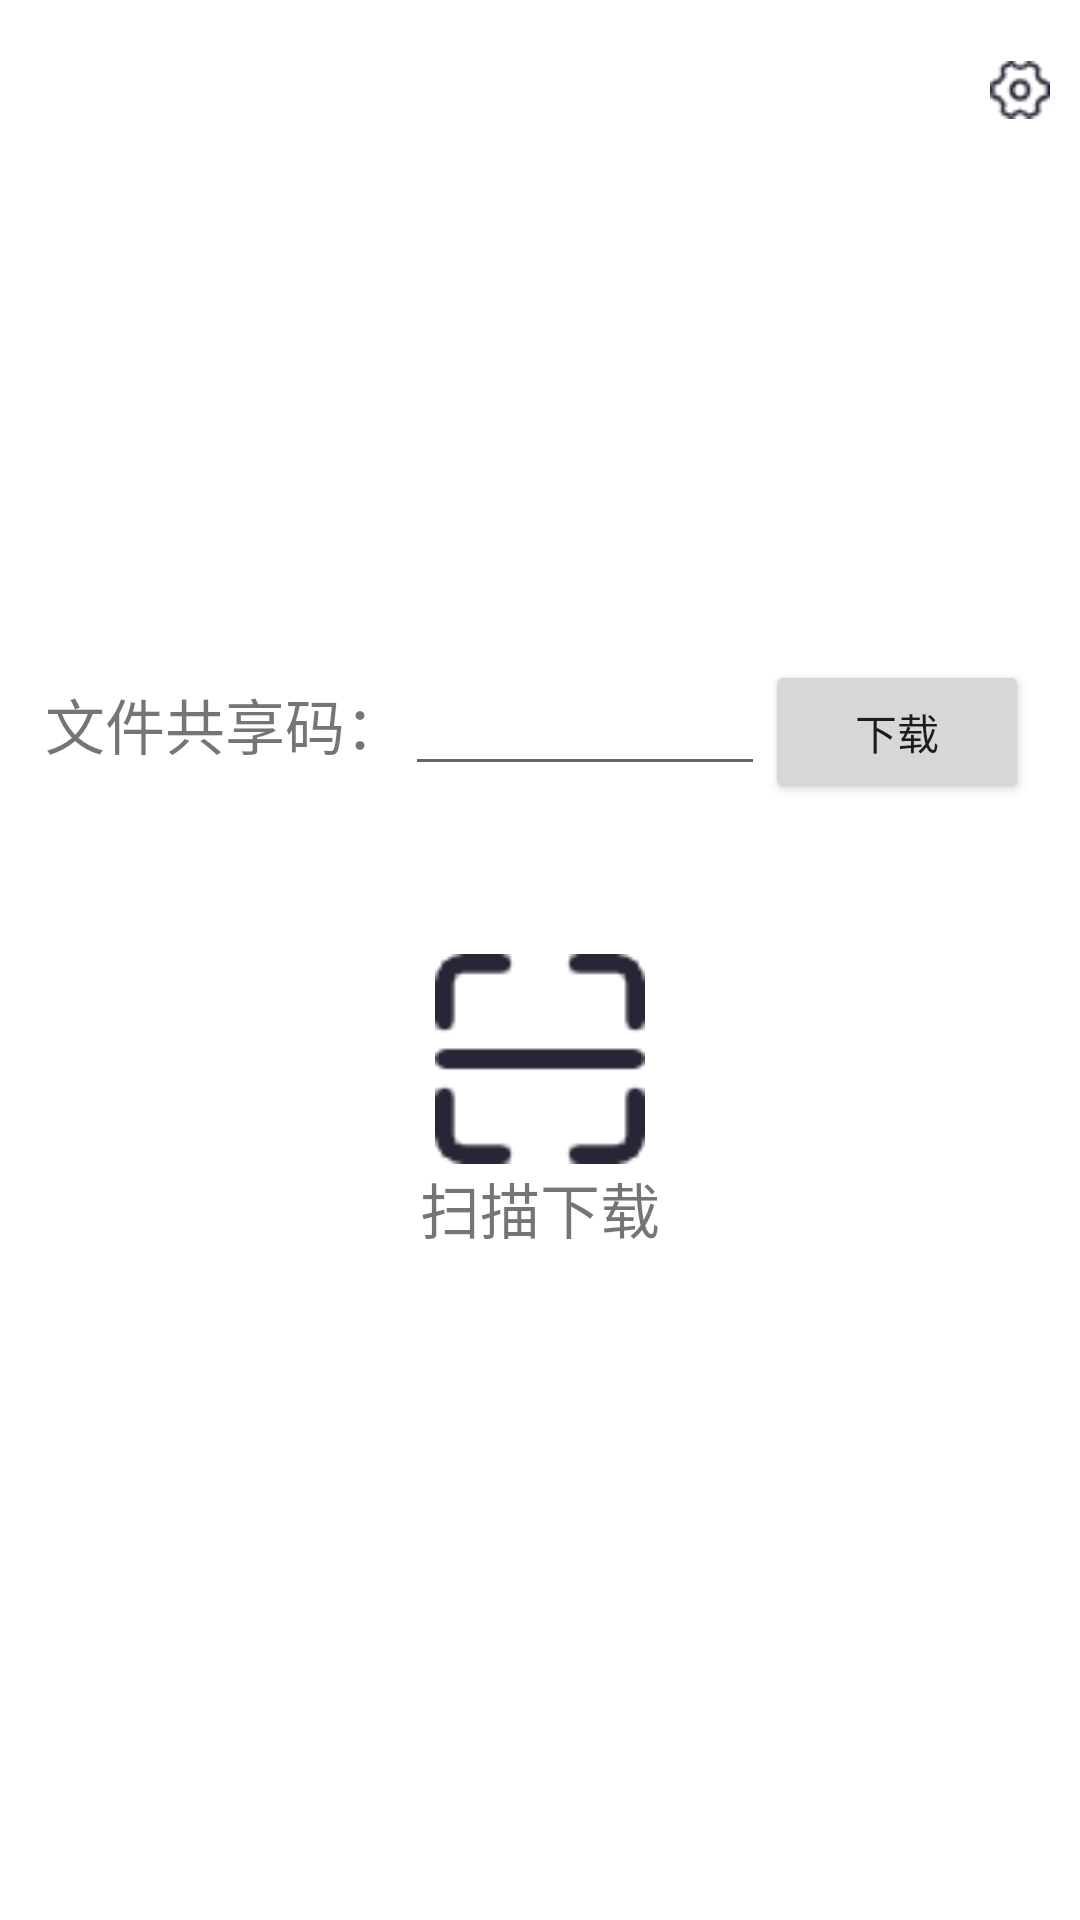

Screen size 1080 x 1920. Icon name, then its box in pixels as box(x1, y1, x2, y2):
setting: box(990, 61, 1050, 119)
